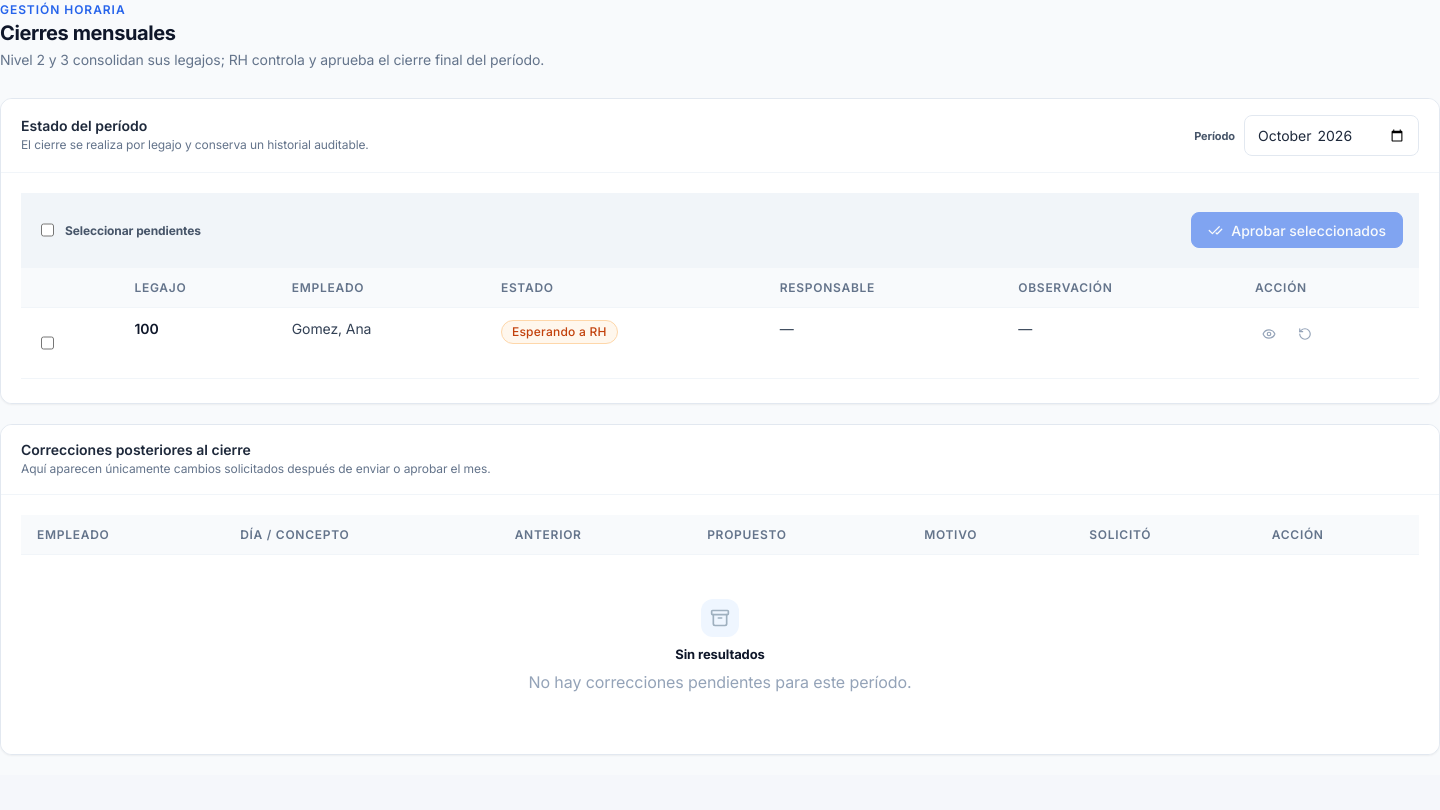
Scenario: MonthlyClosuresPage — Etapa 15K (panel de revisión de horas) › Nivel 1 - RRHH ve el mismo detalle horario al revisar un empleado
Expected: the text "100" is shown, [134,320,159,337]
Click the button named "Revisar horas de 100".
click(1269, 334)  # box [1255,320,1283,348]
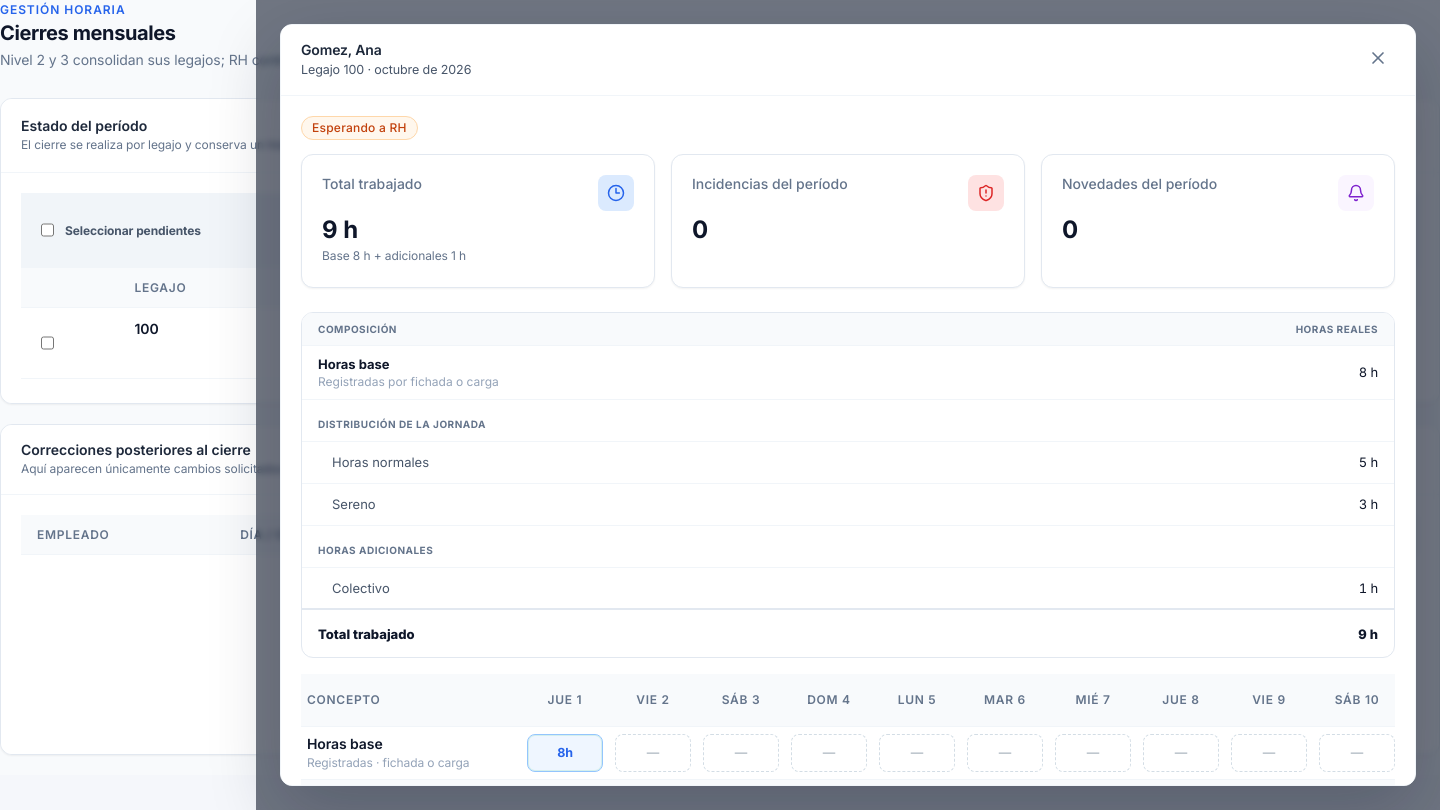
Expected: the column heading "Composición" is shown, [302,312,1214,345]
Expected: the text "Incidencias del período" is shown, [692,174,848,192]
Expected: the text "Novedades del período" is shown, [1062,174,1217,192]
